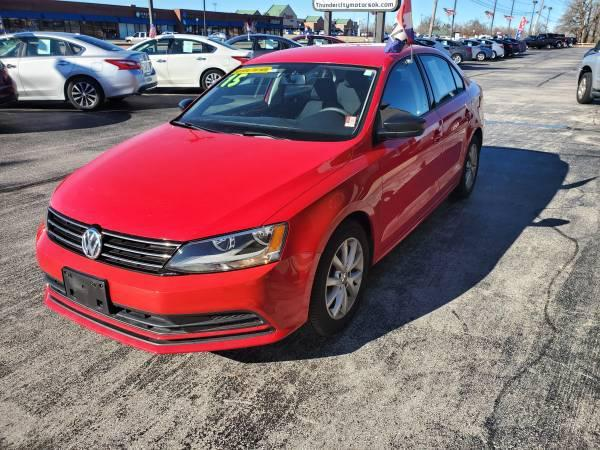Front_Bumper: (34, 224, 319, 353)
Front_Fender: (261, 141, 382, 261)
Front_Left_Door: (373, 109, 445, 255)
Front_Left_Window: (367, 58, 434, 145)
Front_Windshield: (172, 66, 381, 147)
Grille: (40, 203, 179, 277)
Hood: (51, 122, 351, 243)
Left_Headlight: (162, 219, 286, 273)
Rear_Left_Door: (435, 85, 478, 194)
Rear_Left_Window: (414, 58, 465, 108)
Roof: (238, 43, 469, 143)
Wheel: (307, 222, 372, 339), (462, 134, 481, 187)
